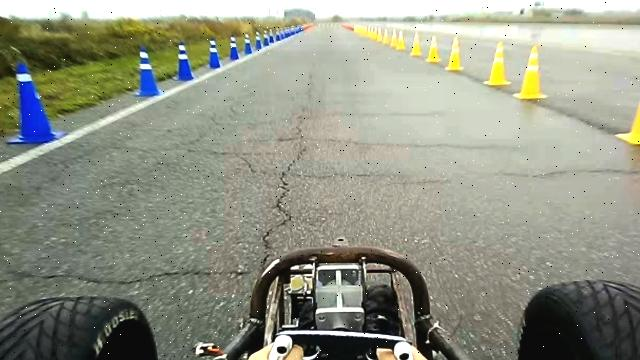blue cone: (5, 61, 61, 144), (133, 46, 161, 96), (172, 41, 194, 81), (208, 37, 221, 68), (228, 34, 240, 60), (243, 33, 253, 55), (262, 30, 270, 46), (255, 33, 262, 50)
yellow cone: (615, 61, 640, 145), (514, 46, 546, 100), (483, 41, 511, 86), (445, 36, 463, 71), (426, 35, 441, 62), (410, 33, 422, 56), (396, 30, 406, 50), (382, 28, 390, 44), (377, 28, 382, 42)
